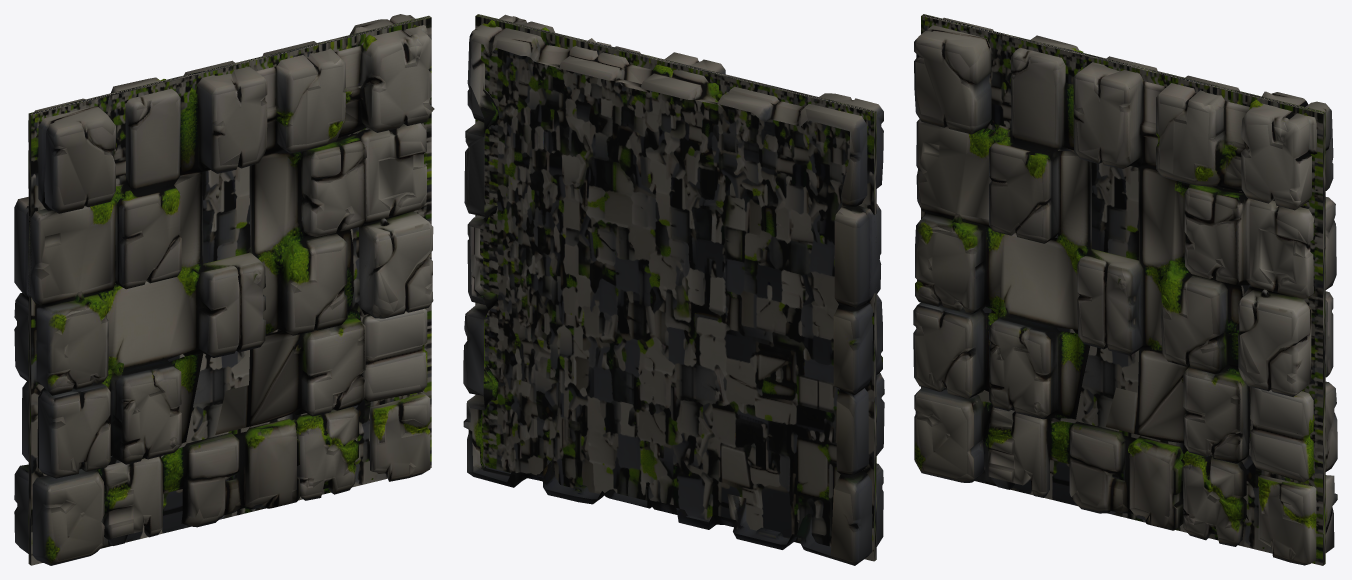
Rendered from wall_user_stone_2p6.glb.
The picture shows the model from 3 angles, left to right: view 1: azimuth 30°, elevation 25°; view 2: azimuth 150°, elevation 25°; view 3: azimuth 330°, elevation 25°; orthographic projection.
Parts seen in each view (by area): view 1: WallUserStone_2p6; view 2: WallUserStone_2p6; view 3: WallUserStone_2p6.
Boxes of the visible parts, left/top/right/bottom form: WallUserStone_2p6: left=14, top=14, right=434, bottom=565; WallUserStone_2p6: left=463, top=14, right=884, bottom=565; WallUserStone_2p6: left=913, top=14, right=1337, bottom=565.
Bounding box in the file's own units: 3.95 × 4.24 × 0.62.
Materials: 1 (1 with a texture image).
